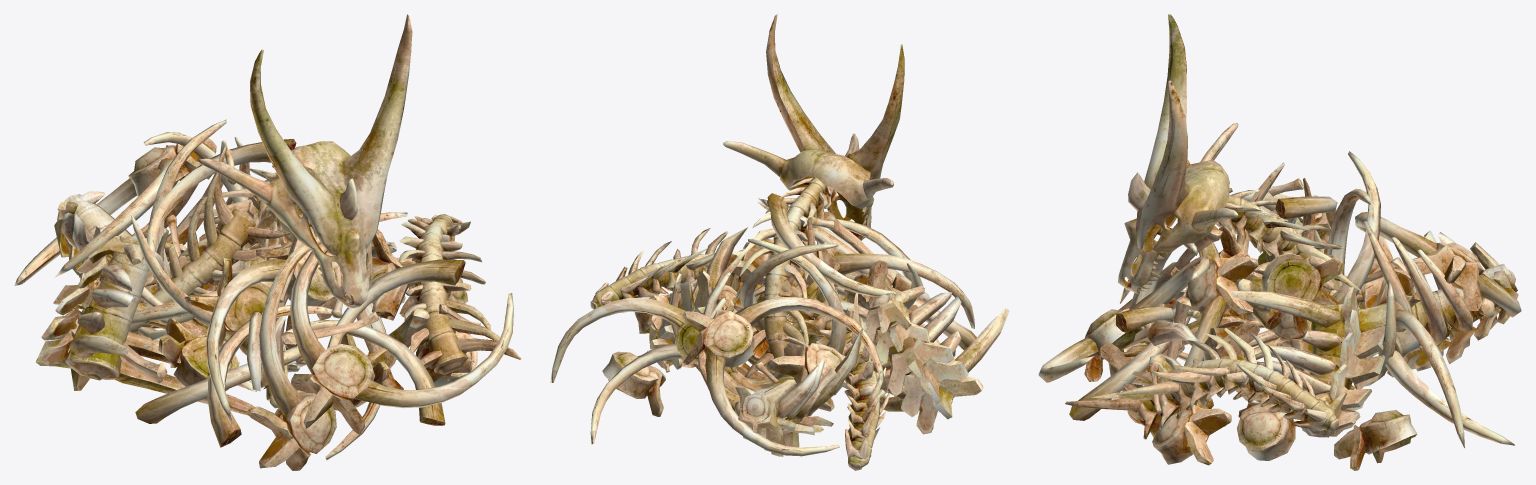
3 renders of one model, left to right at view 1: azimuth 30°, elevation 25°; view 2: azimuth 150°, elevation 25°; view 3: azimuth 270°, elevation 25°, orthographic. The views are drawn at different scales.
Visible parts, largest first — view 1: SM_Dragon_Shrines_01_LOD0; view 2: SM_Dragon_Shrines_01_LOD0; view 3: SM_Dragon_Shrines_01_LOD0.
Boxes of the visible parts, x1,y1,x2,y2 form: SM_Dragon_Shrines_01_LOD0: (14, 14, 521, 470); SM_Dragon_Shrines_01_LOD0: (550, 14, 1009, 470); SM_Dragon_Shrines_01_LOD0: (1038, 14, 1521, 470).
Bounding box in the file's own units: 2.86 × 2.67 × 2.95.
Materials: 1 (1 with a texture image).
